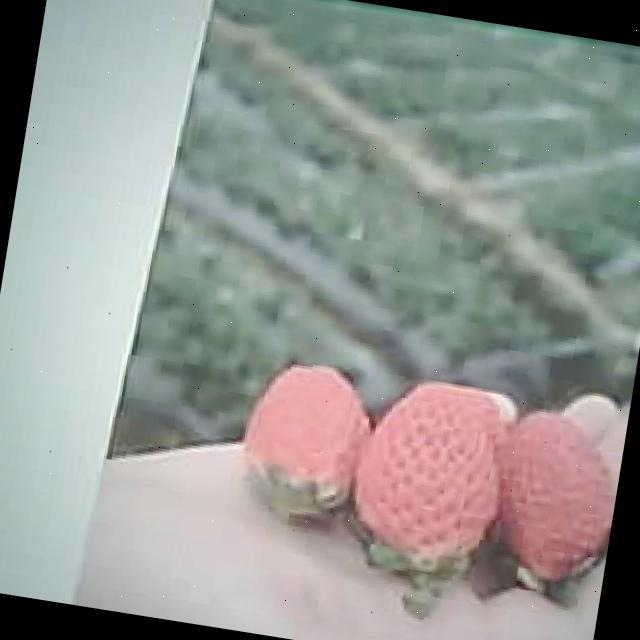strawberry: (348, 371, 513, 574), (487, 408, 627, 588), (237, 358, 371, 522)
